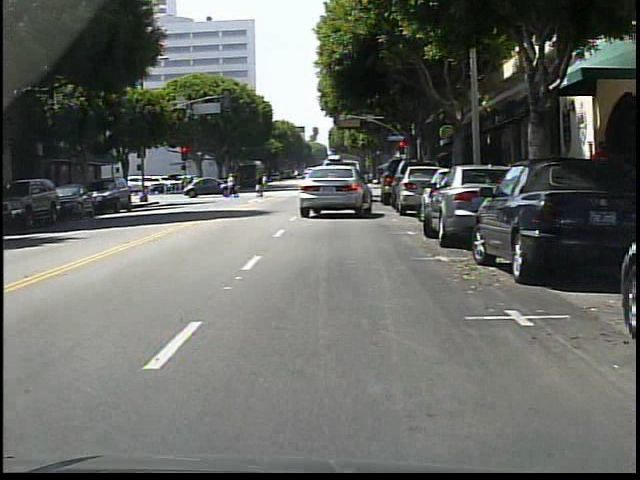person: (590, 141, 619, 219), (255, 170, 267, 199), (227, 173, 240, 198), (262, 175, 269, 192)
